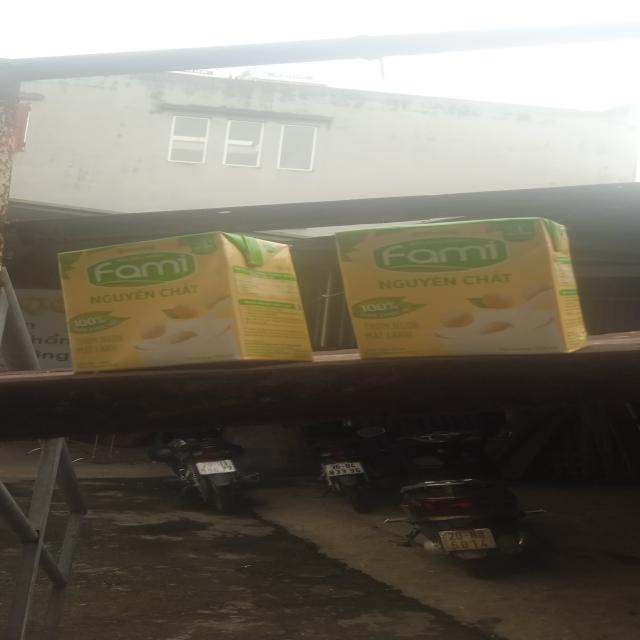Fami: (59, 232, 314, 374), (341, 218, 589, 357)
